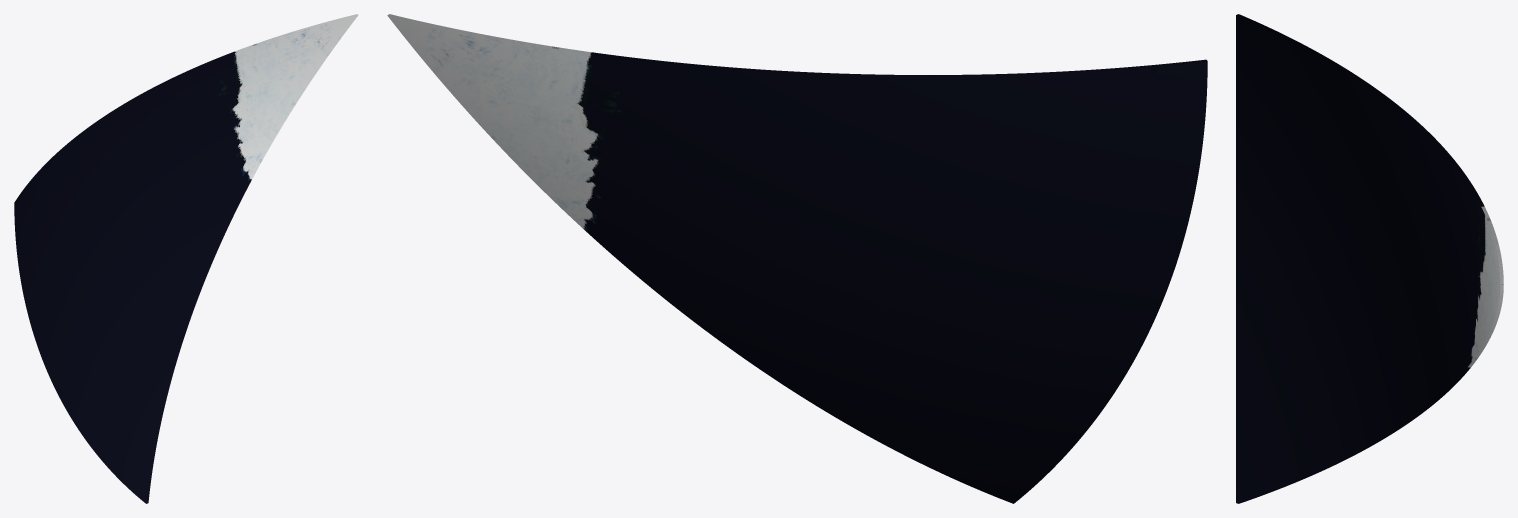
The picture shows the model from 3 angles, left to right: view 1: azimuth 30°, elevation 25°; view 2: azimuth 150°, elevation 25°; view 3: azimuth 270°, elevation 25°; orthographic projection. The views are drawn at different scales.
Parts seen in each view (by area): view 1: DefaultName.003, DefaultName.001, DefaultName.005, DefaultName.007; view 2: DefaultName.001, DefaultName.003, DefaultName.007, DefaultName.005; view 3: DefaultName.003, DefaultName.001, DefaultName.007, DefaultName.005.
Boxes of the visible parts, left/top/right/bottom form: DefaultName.003: left=49, top=187, right=214, bottom=503; DefaultName.001: left=14, top=94, right=161, bottom=374; DefaultName.005: left=161, top=15, right=358, bottom=257; DefaultName.007: left=141, top=14, right=357, bottom=185; DefaultName.001: left=760, top=59, right=1207, bottom=313; DefaultName.003: left=682, top=210, right=1156, bottom=503; DefaultName.007: left=387, top=14, right=787, bottom=209; DefaultName.005: left=388, top=16, right=759, bottom=312; DefaultName.003: left=1236, top=257, right=1434, bottom=503; DefaultName.001: left=1236, top=14, right=1434, bottom=269; DefaultName.007: left=1431, top=138, right=1503, bottom=284; DefaultName.005: left=1432, top=270, right=1503, bottom=403.
Size of the model in its own units: 45176 by 31944 by 18870.
Materials: 4 (4 with a texture image).
